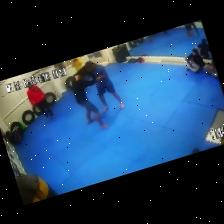person: (84, 61, 123, 112), (71, 75, 107, 129), (26, 83, 53, 119), (184, 49, 204, 72), (195, 39, 210, 59), (204, 59, 216, 77), (70, 57, 82, 71), (190, 22, 199, 36), (184, 23, 192, 38)
